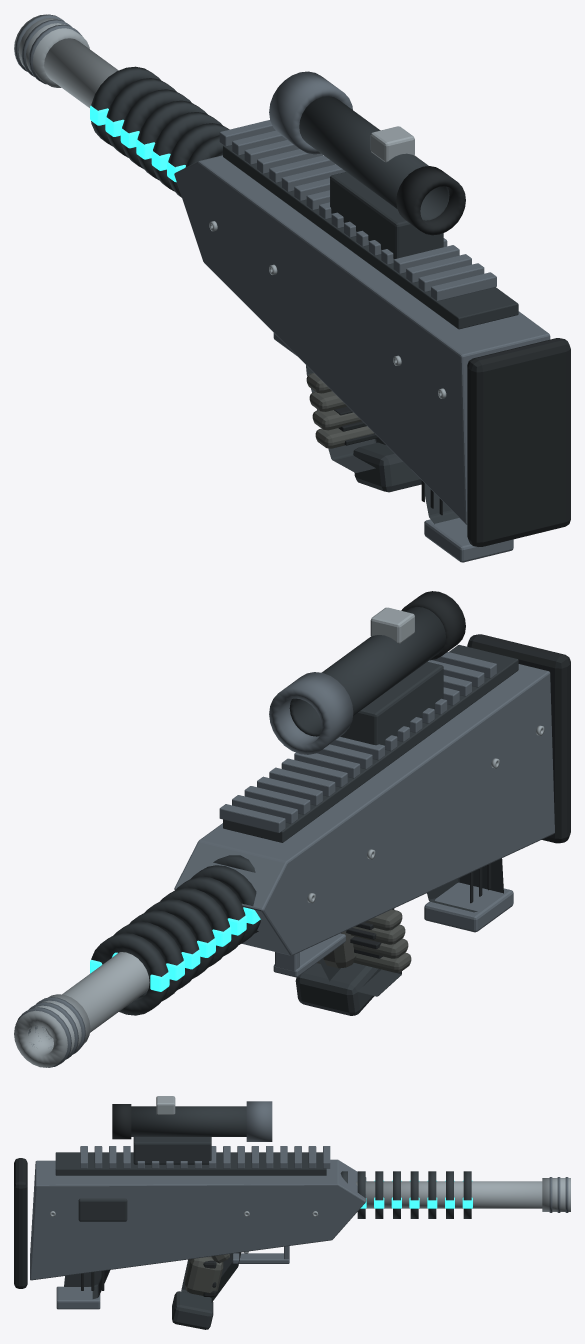
File: rail.glb
3 renders of one model, top to bottom at view 1: azimuth 30°, elevation 25°; view 2: azimuth 150°, elevation 25°; view 3: azimuth 270°, elevation 25°, orthographic. The views are drawn at different scales.
Parts seen in each view (by area): view 1: Parts_Parkerized steel, Parts_Graphite polymer, Parts_Rubber, Parts_Machined steel, Magazine, Parts_Charcoal glove, Parts_Charge indicator; view 2: Parts_Parkerized steel, Parts_Graphite polymer, Parts_Machined steel, Parts_Rubber, Magazine, Parts_Charcoal glove, Parts_Charge indicator; view 3: Parts_Parkerized steel, Parts_Graphite polymer, Parts_Machined steel, Parts_Rubber, Magazine, Parts_Charcoal glove, Parts_Charge indicator.
Part boxes in pixels (<box>): Parts_Parkerized steel: <box>14,14,550,524</box>; Parts_Graphite polymer: <box>91,66,518,492</box>; Parts_Rubber: <box>334,166,570,546</box>; Parts_Machined steel: <box>14,14,446,398</box>; Magazine: <box>421,480,513,562</box>; Parts_Charcoal glove: <box>306,373,374,448</box>; Parts_Charge indicator: <box>90,105,185,182</box>; Parts_Parkerized steel: <box>15,652,554,1067</box>; Parts_Graphite polymer: <box>91,607,518,1015</box>; Parts_Machined steel: <box>14,607,544,1067</box>; Parts_Rubber: <box>346,591,570,958</box>; Magazine: <box>424,858,513,932</box>; Parts_Charcoal glove: <box>317,909,411,972</box>; Parts_Charge indicator: <box>90,907,260,991</box>; Parts_Parkerized steel: <box>30,1101,568,1280</box>; Parts_Graphite polymer: <box>55,1106,471,1329</box>; Parts_Machined steel: <box>50,1096,570,1253</box>; Parts_Rubber: <box>14,1104,216,1296</box>; Magazine: <box>56,1270,110,1309</box>; Parts_Charcoal glove: <box>185,1254,229,1295</box>; Parts_Charge indicator: <box>360,1180,472,1208</box>.
Size of the model in its own units: 0.1275 by 0.4166 by 0.976.
